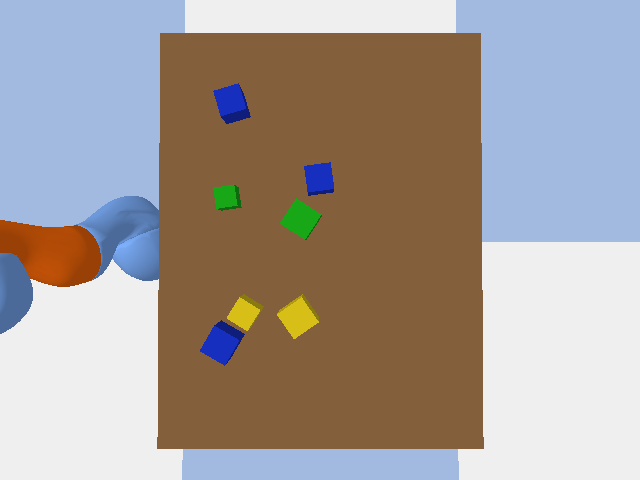blue_obj: (200, 320, 244, 365), (213, 83, 250, 123), (304, 162, 333, 195)
green_obj: (280, 198, 321, 239), (213, 184, 241, 210)
yellow_obj: (277, 294, 318, 338), (227, 294, 263, 330)
